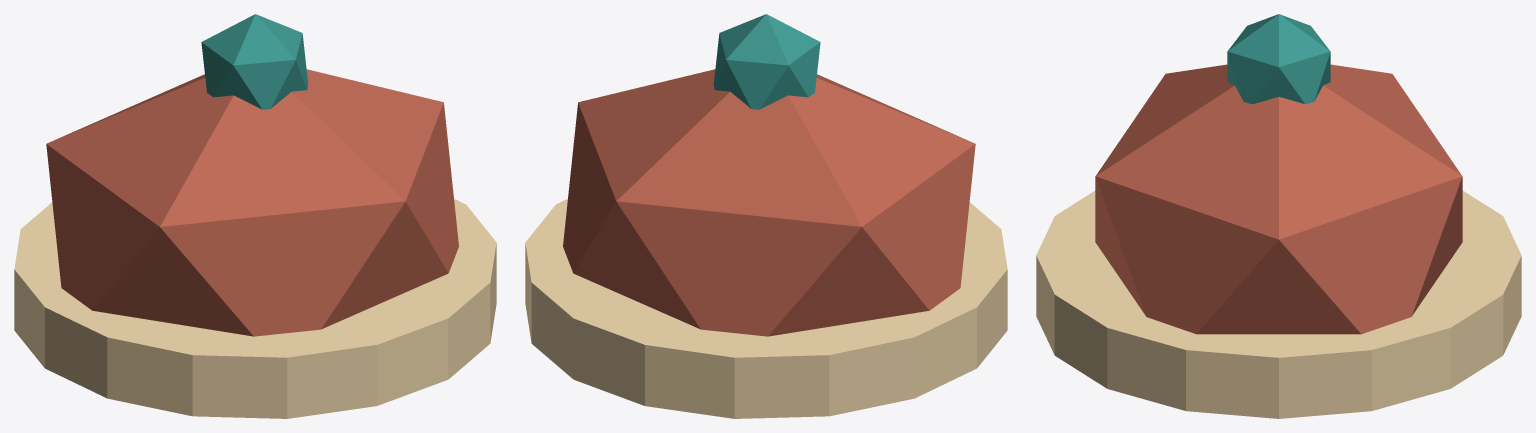
Rendered from outfit_beanie.glb.
The picture shows the model from 3 angles, left to right: view 1: azimuth 30°, elevation 25°; view 2: azimuth 150°, elevation 25°; view 3: azimuth 270°, elevation 25°; orthographic projection.
Visible parts, largest first — view 1: knit, cuff, pom; view 2: knit, cuff, pom; view 3: knit, cuff, pom.
Part boxes in pixels (x1,y1,x2,y2): knit: (46,69,458,336); cuff: (14,199,496,418); pom: (201,14,308,109); knit: (563,69,975,336); cuff: (525,199,1007,418); pom: (713,14,820,109); knit: (1095,64,1462,334); cuff: (1036,191,1521,418); pom: (1227,14,1330,104).
Size of the model in its own units: 0.72 by 0.61 by 0.72.
